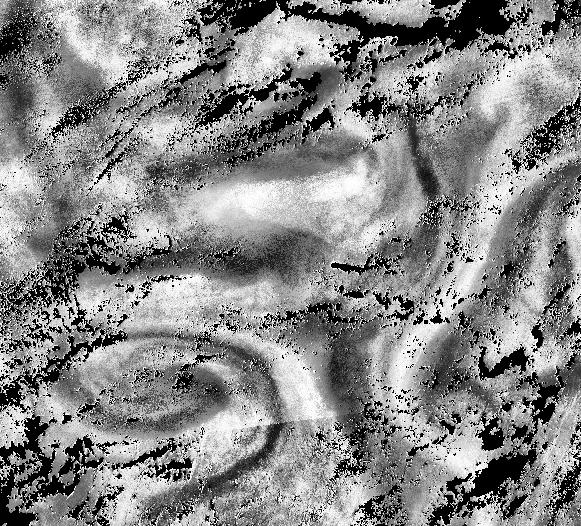CE: (27, 313, 296, 473)
